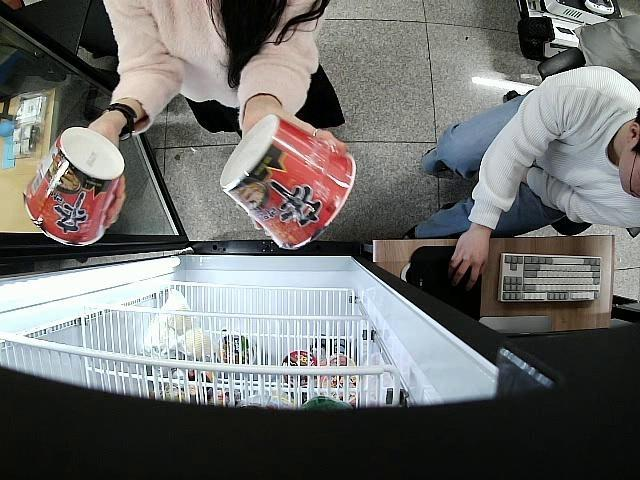01_ShinRamen_L: (220, 114, 356, 248), (24, 126, 126, 248)
